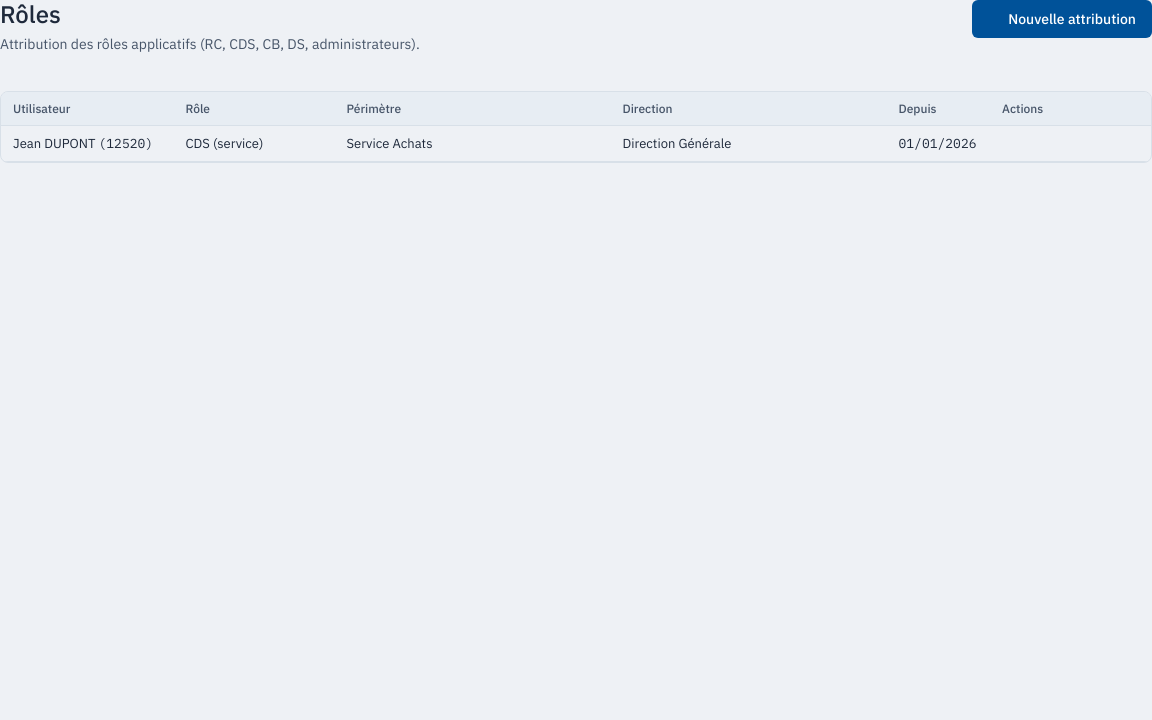
it: RolesUtilisateurs › ADMIN_APP voit DS dans le choix de rôle
Click the button "Nouvelle attribution": (1062, 19) [972,0,1151,38]
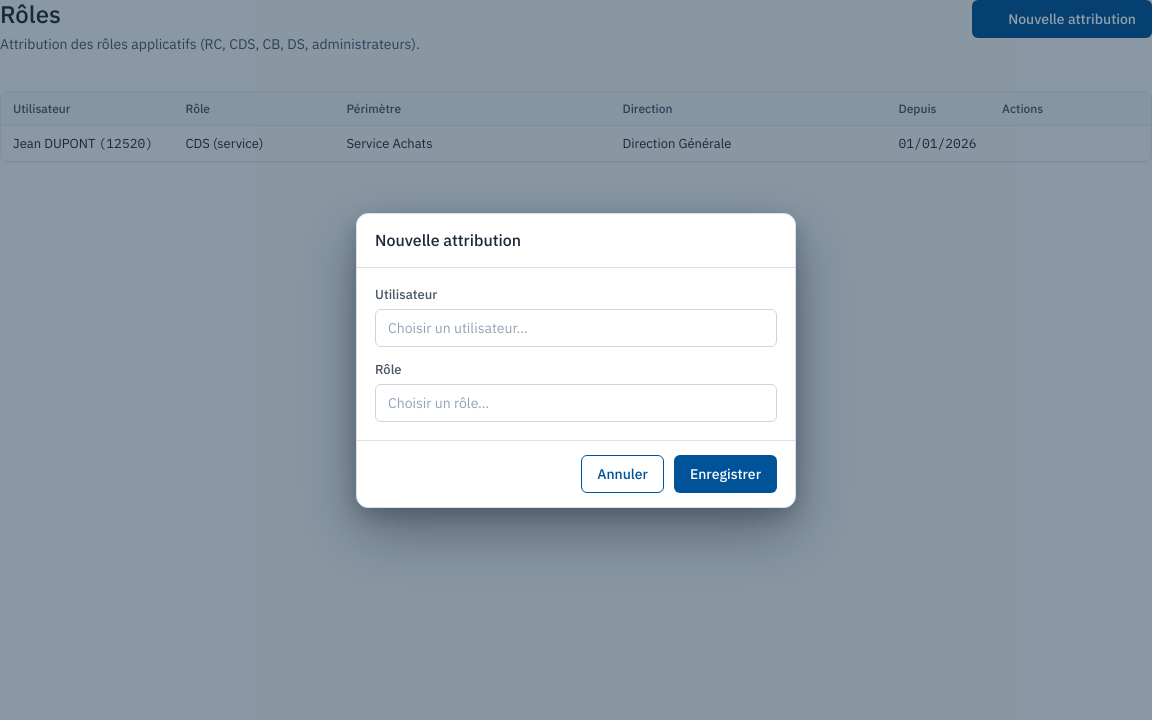
Click the button "Choisir un rôle…": (439, 402) [375,384,777,422]
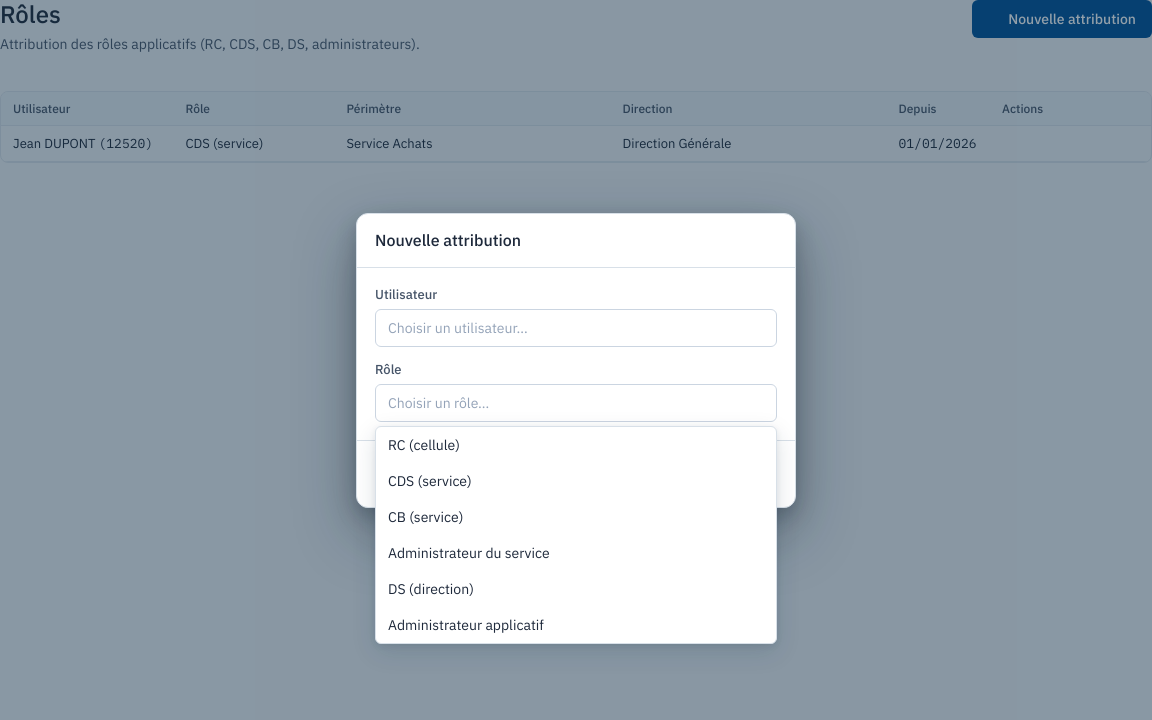
Result: the text "DS (direction)" is shown at [388,580,474,598]
